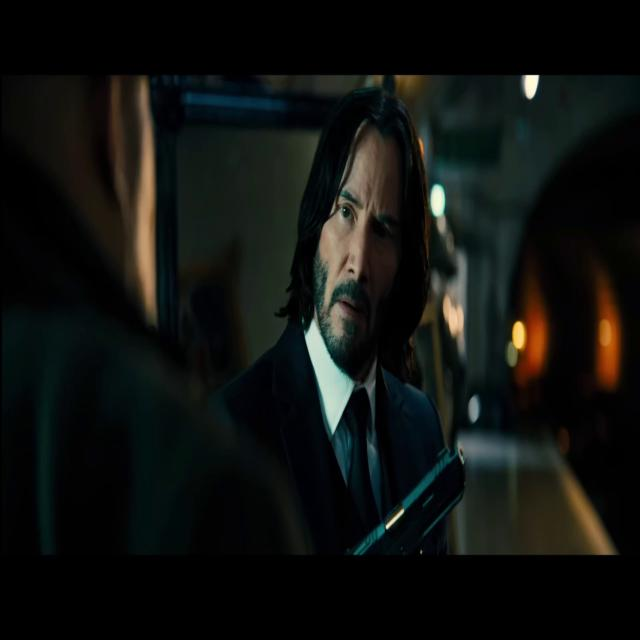weapons: (343, 422, 472, 563)
